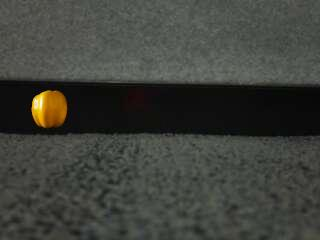Capsicum: (30, 88, 70, 130)
